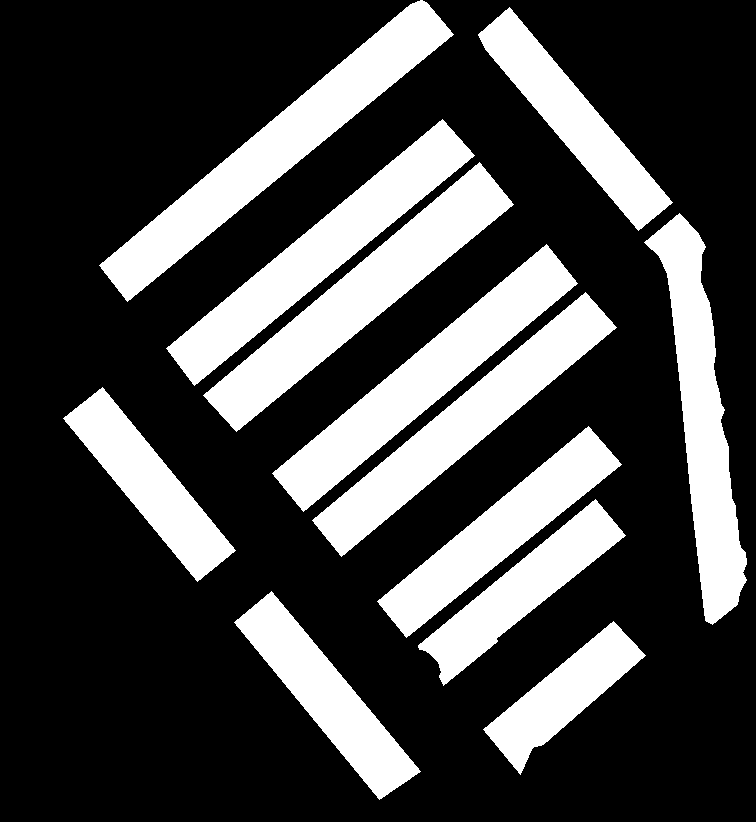parkingspot: (99, 0, 453, 301), (203, 162, 513, 431), (166, 119, 474, 385), (272, 244, 577, 511), (312, 292, 616, 556), (377, 426, 621, 637), (478, 7, 672, 230), (644, 213, 746, 624), (234, 591, 420, 799), (418, 499, 625, 685), (63, 387, 235, 581), (483, 621, 645, 774)
